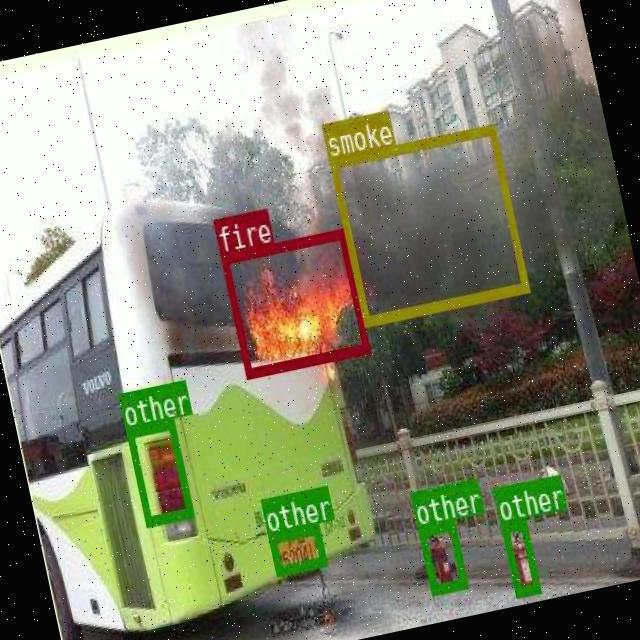fire: (220, 227, 368, 376)
smoke: (327, 122, 527, 324)
